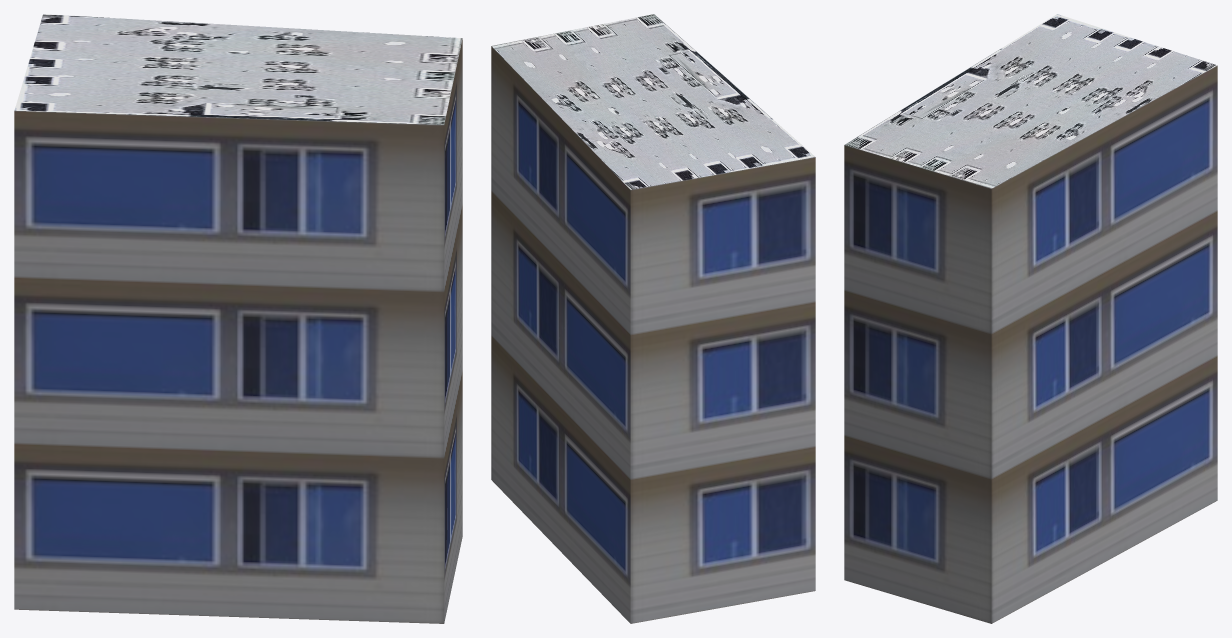
The model's file is ResTex__4207.fbx.
3 views of the same model, side by side, from view 1: azimuth 30°, elevation 25°; view 2: azimuth 150°, elevation 25°; view 3: azimuth 270°, elevation 25° (orthographic). The views are drawn at different scales.
Parts seen in each view (by area): view 1: CityEngineMaterial_23_m, CityEngineMaterial_m; view 2: CityEngineMaterial_23_m, CityEngineMaterial_m; view 3: CityEngineMaterial_23_m, CityEngineMaterial_m.
Part boxes in pixels (<box>): CityEngineMaterial_23_m: <box>14,38,462,623</box>; CityEngineMaterial_m: <box>14,14,462,124</box>; CityEngineMaterial_23_m: <box>491,46,815,623</box>; CityEngineMaterial_m: <box>492,14,814,189</box>; CityEngineMaterial_23_m: <box>844,65,1217,623</box>; CityEngineMaterial_m: <box>844,14,1217,188</box>.
Bounding box in the file's own units: 7.75 × 9 × 7.
Materials: 2 (2 with a texture image).
